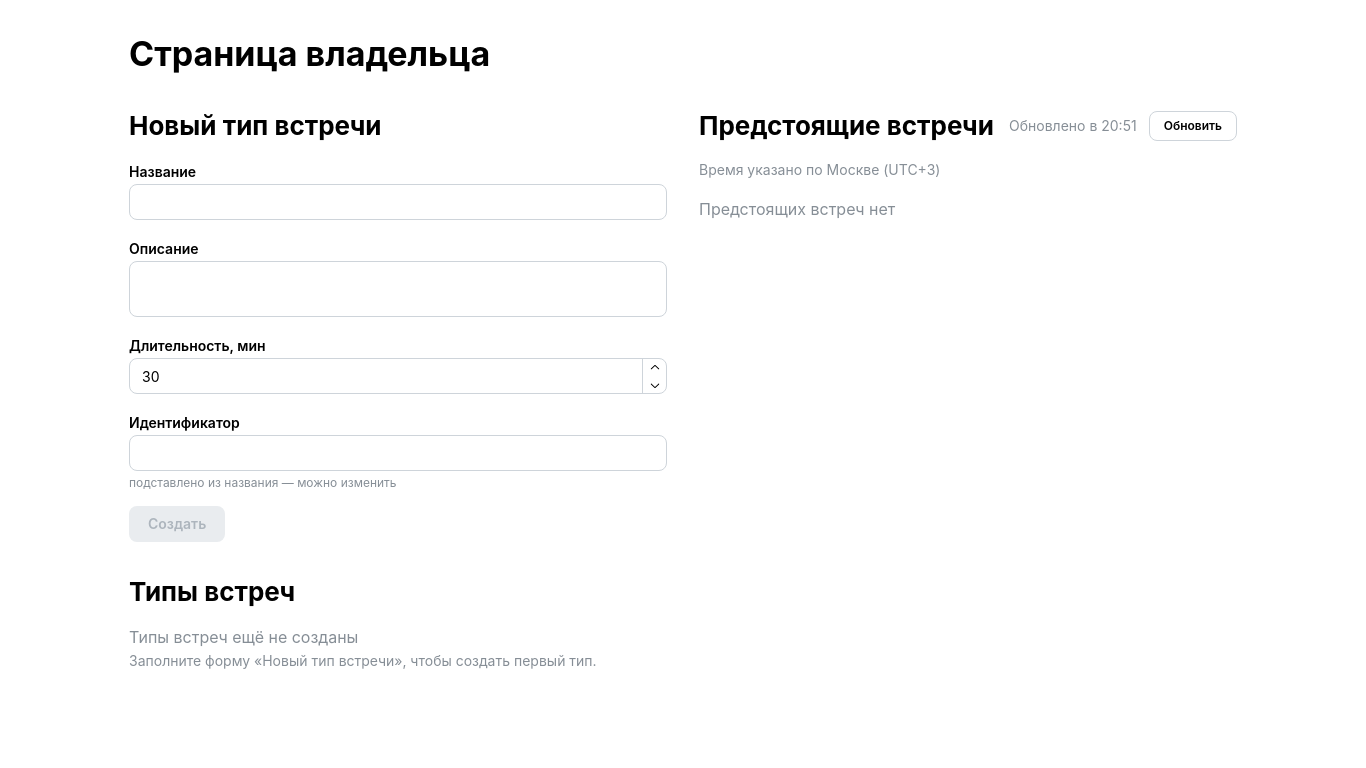
Test: owner page › suggests id from the title and shows the hint while id is untouched
Type "Знакомство" into the field labelled "Название". click: (398, 202)
box: top-left (129, 184), bottom-right (667, 220)
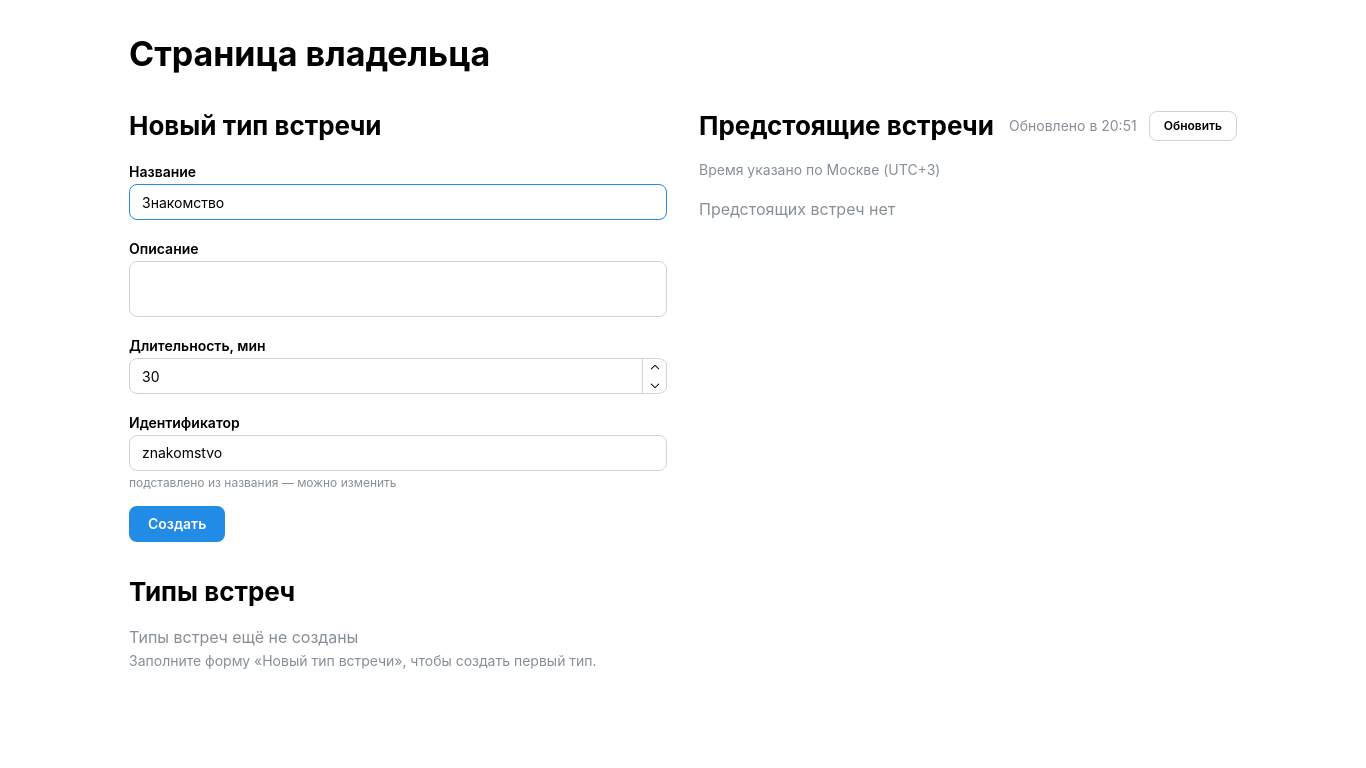
Expected: the text "подставлено из названия — можно изменить" is shown, top-left (129, 475), bottom-right (396, 490)
Expected: the field labelled "Идентификатор" holds "znakomstvo", top-left (129, 435), bottom-right (667, 471)
